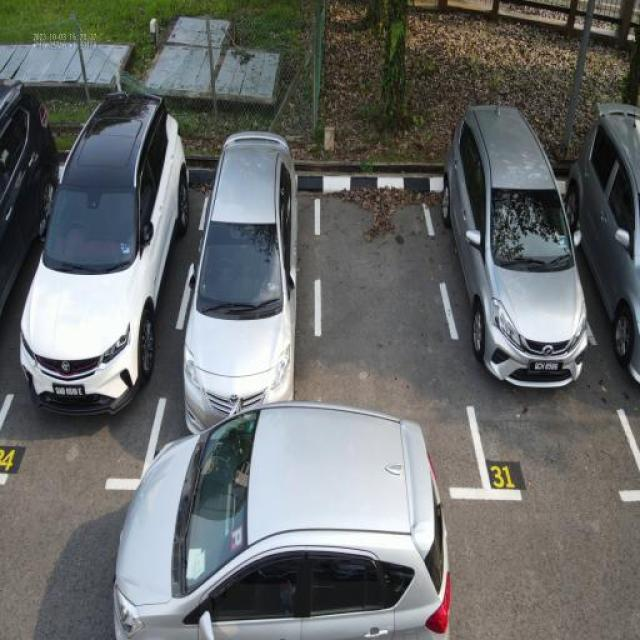Legalparking: (0, 79, 640, 457)
illegalparking: (0, 366, 640, 640)
